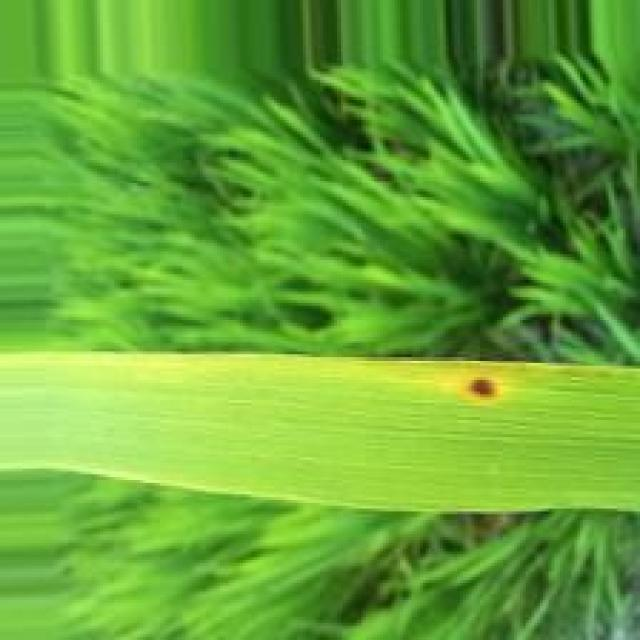Brown_Spot: (462, 370, 508, 409)
